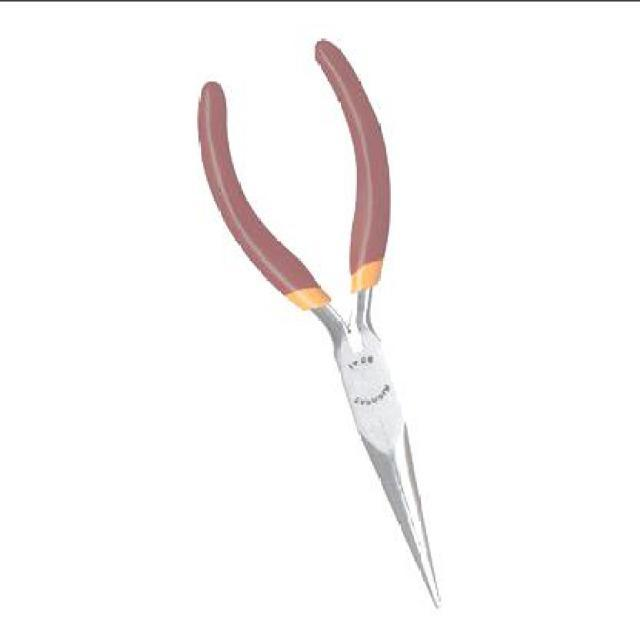pliers: (193, 36, 444, 609)
